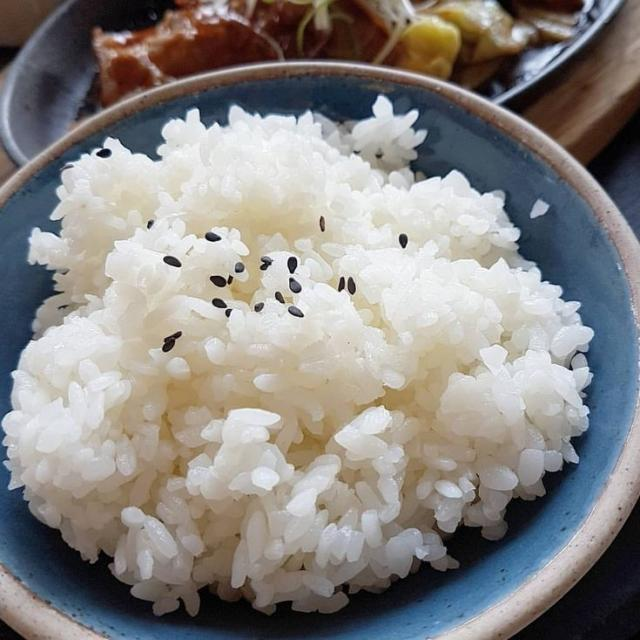rice: (3, 98, 592, 614)
